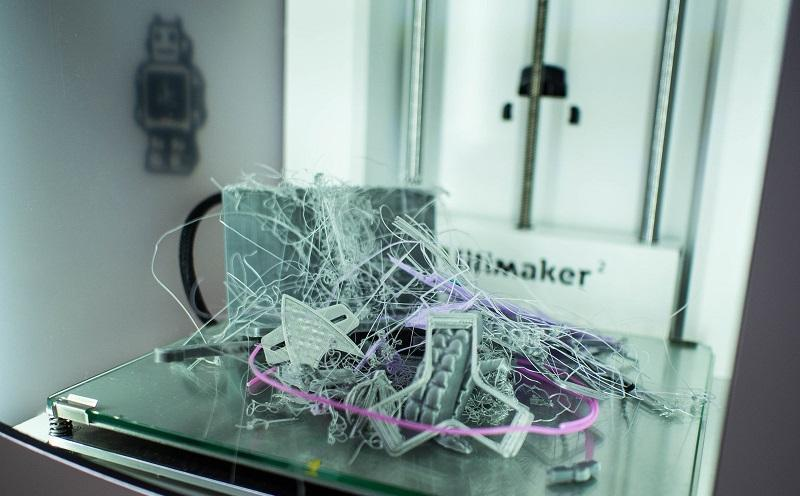Spaghetti: (209, 174, 517, 299), (485, 301, 715, 421), (239, 386, 361, 440), (178, 299, 277, 327)
